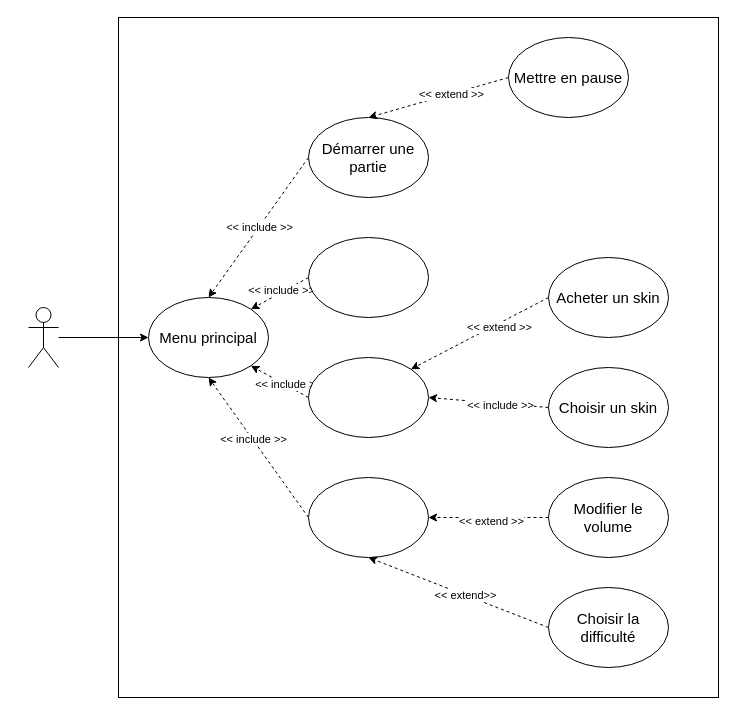
Some shapes in this 736 by 715 pixel diagram are drawn without their labels. The shapes that lost their labels are listed below. From the top down, each one's centre as x and y in pixels, then its label:
point (368, 277): Voir le tableau des scores
point (43, 337): Utilisateur
point (368, 397): Choisir son personnage
point (368, 517): Accéder aux réglages
